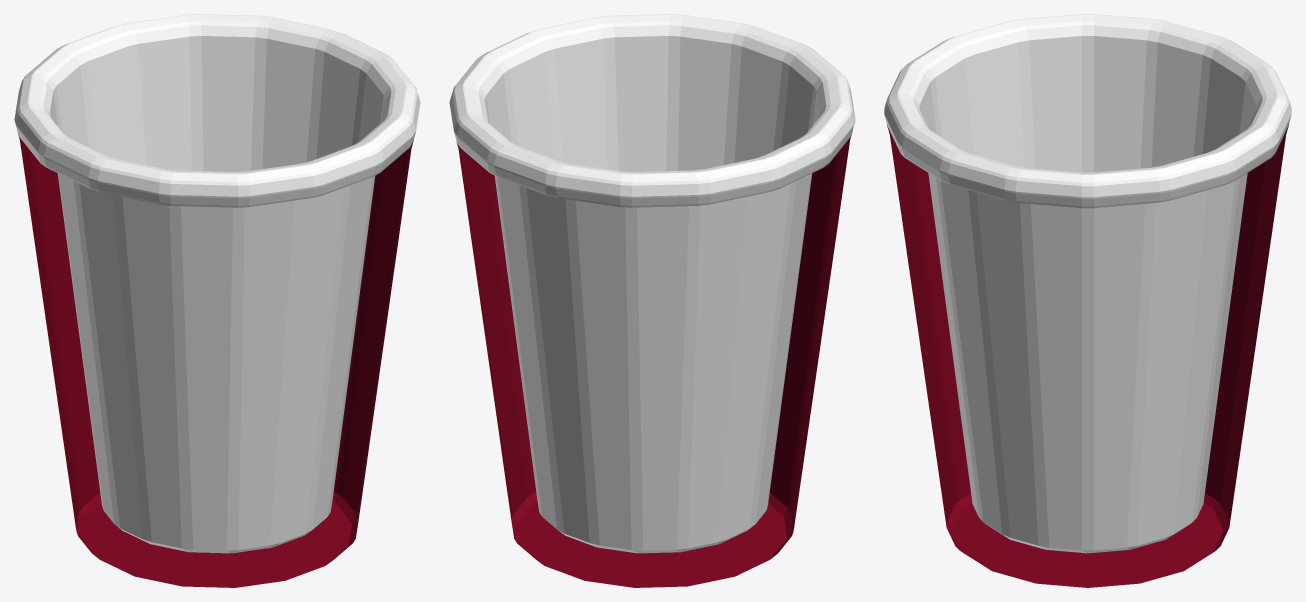
Rendered from plastic_cup_partyassets.fbx.
The picture shows the model from 3 angles, left to right: view 1: azimuth 30°, elevation 25°; view 2: azimuth 150°, elevation 25°; view 3: azimuth 270°, elevation 25°; orthographic projection.
Parts seen in each view (by area): view 1: plastic_cup_partyassets; view 2: plastic_cup_partyassets; view 3: plastic_cup_partyassets.
Boxes of the visible parts, x1,y1,x2,y2 form: plastic_cup_partyassets: (14, 14, 420, 587); plastic_cup_partyassets: (449, 14, 855, 587); plastic_cup_partyassets: (884, 14, 1291, 587).
Bounding box in the file's own units: 11.51 × 13.6 × 11.51.
